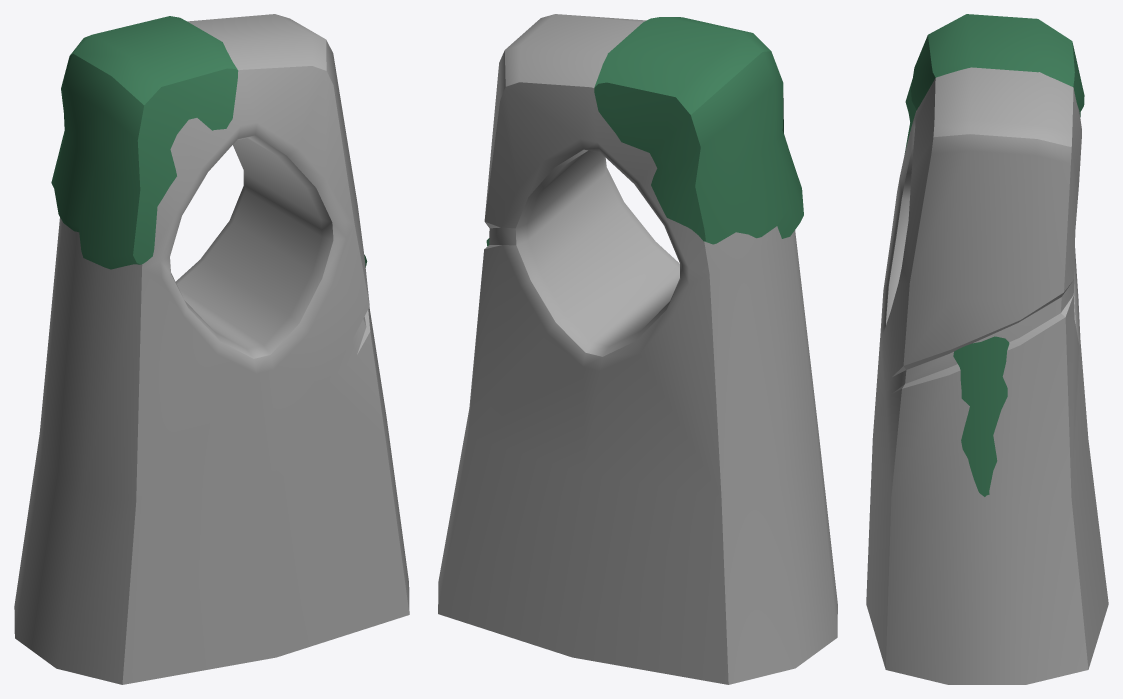
Rendered from MossyStones_fbx.fbx.
3 renders of one model, left to right at view 1: azimuth 30°, elevation 25°; view 2: azimuth 150°, elevation 25°; view 3: azimuth 270°, elevation 25°, orthographic. The views are drawn at different scales.
Parts seen in each view (by area): view 1: Stone_Large_LOD0; view 2: Stone_Large_LOD0; view 3: Stone_Large_LOD0.
Part boxes in pixels (left/top/right/bottom): Stone_Large_LOD0: left=14, top=14, right=409, bottom=684; Stone_Large_LOD0: left=438, top=14, right=837, bottom=684; Stone_Large_LOD0: left=866, top=14, right=1108, bottom=684.
Size of what is drawn, in the model's own units: 108 by 178 by 68.7.
